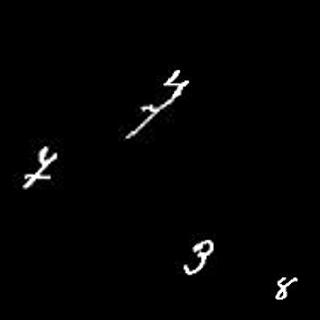eight: (273, 268, 301, 302)
four: (161, 67, 189, 102)
seven: (19, 148, 59, 190), (125, 104, 162, 143)
three: (182, 236, 220, 276)
